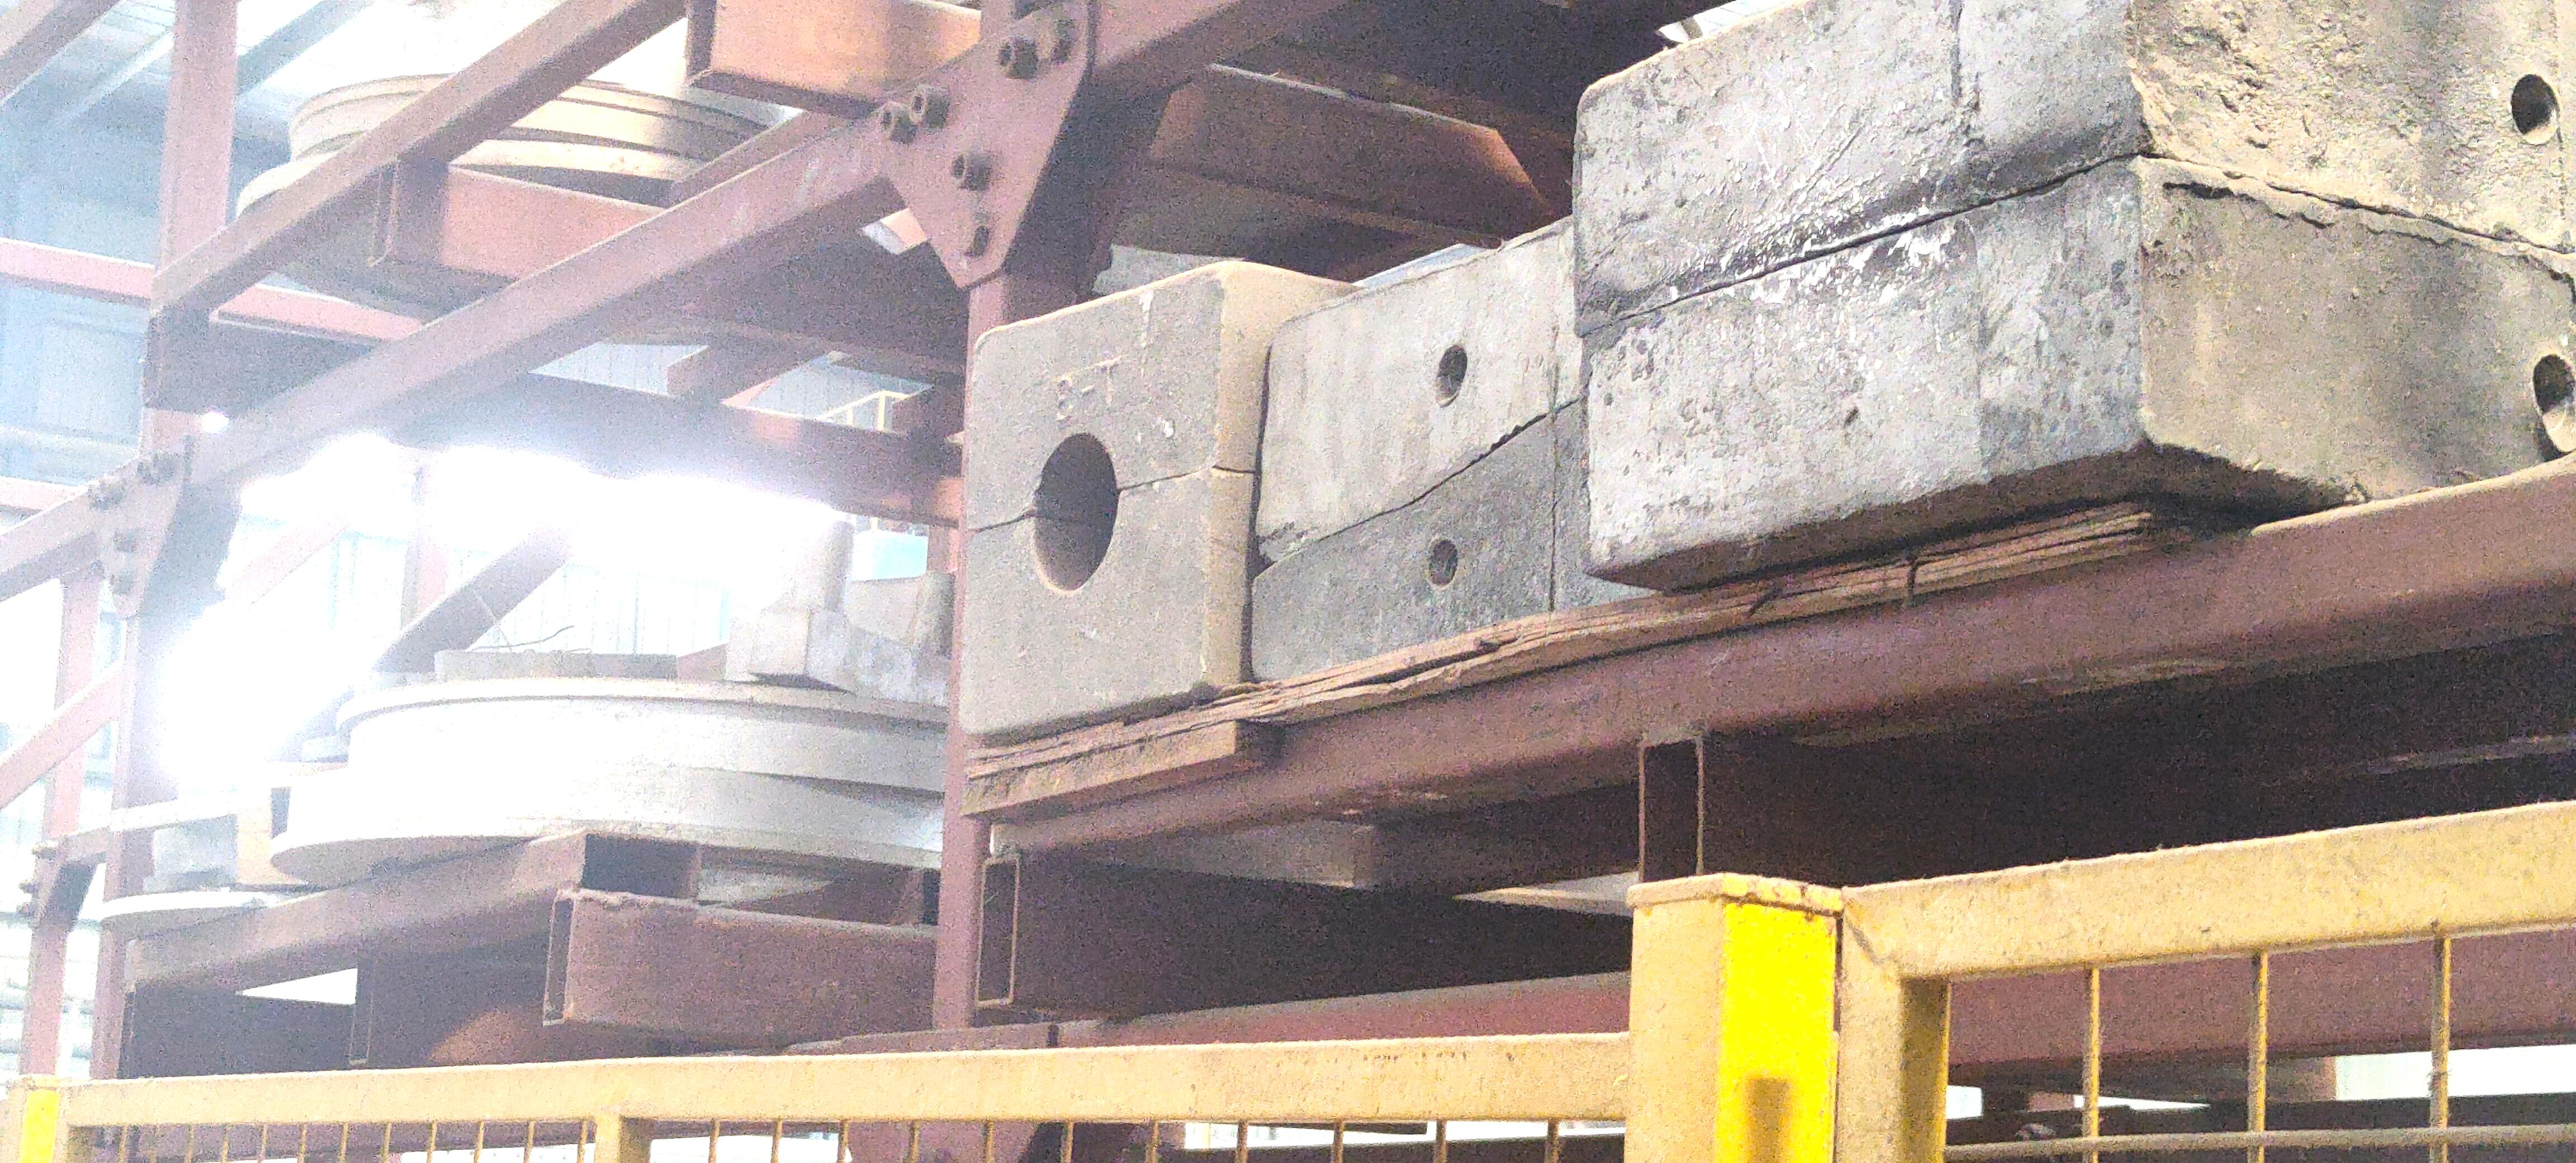pouring hole: (1035, 437, 1122, 596)
